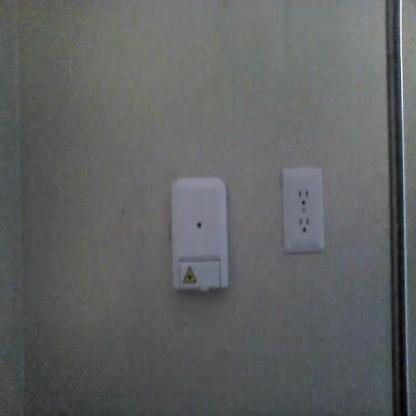OUTLET: (281, 167, 325, 253)
